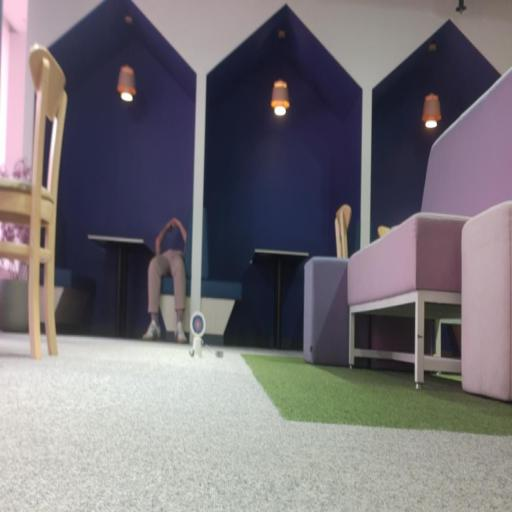target: (190, 311, 205, 338)
